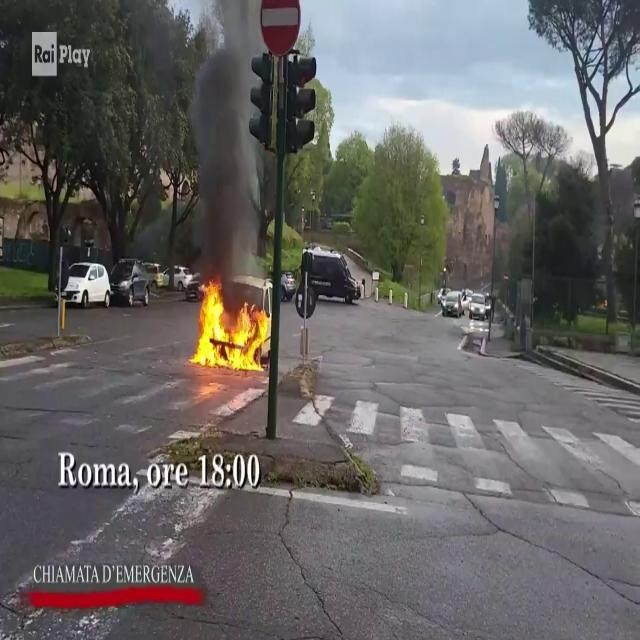Fire: (191, 276, 271, 372)
Smoke: (184, 1, 266, 279)
